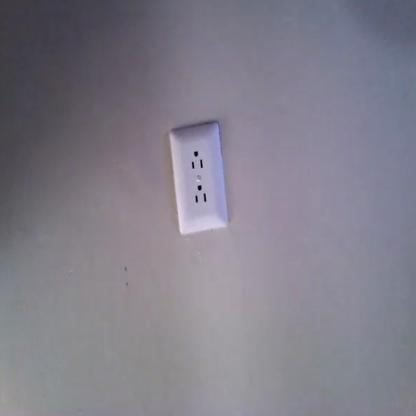OUTLET: (169, 122, 230, 234)
